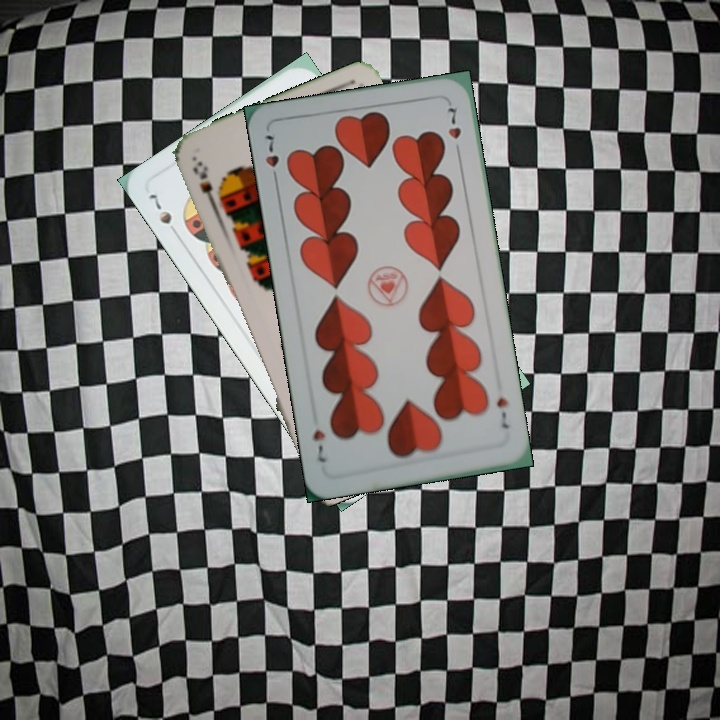H7: (260, 131, 282, 187), (492, 393, 511, 431)
S7: (144, 189, 182, 240)
S9: (189, 155, 220, 212)
